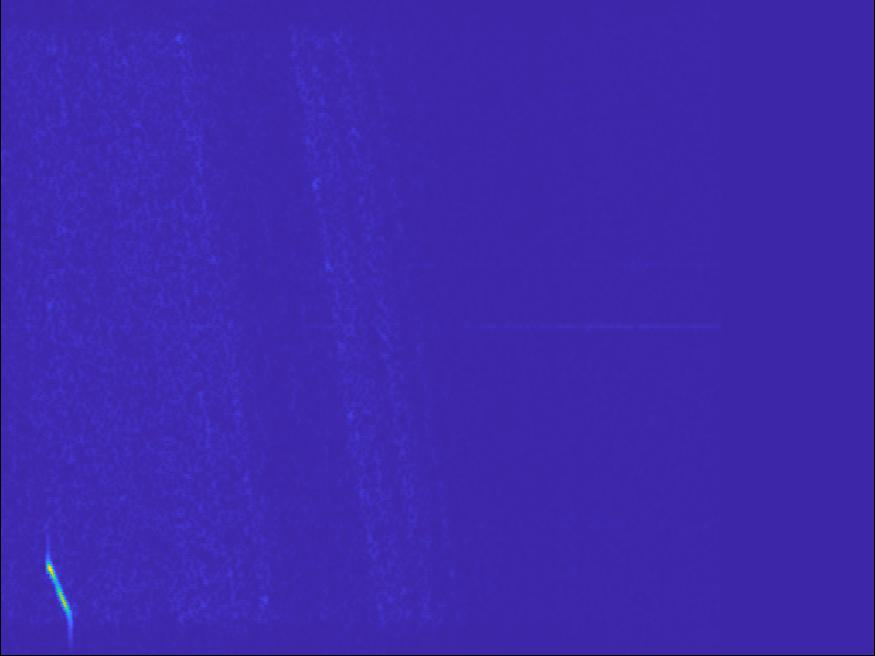Interference: (266, 264, 394, 369), (408, 363, 501, 424), (299, 212, 415, 256), (272, 1, 351, 48), (222, 335, 296, 380)
